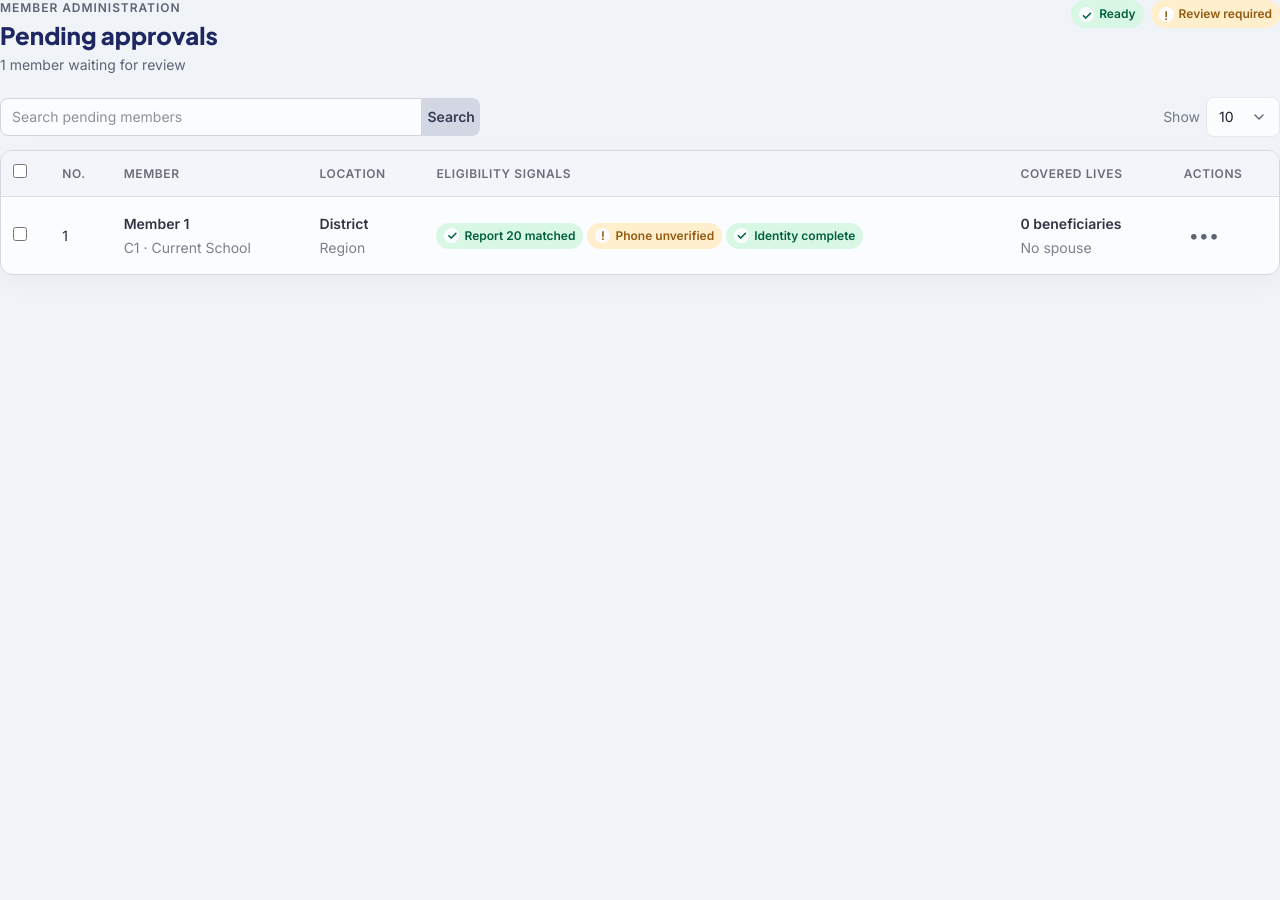
requires a correction note for member returns and preserves it after failure
Click the checkbox named "Select Member 1" at (20, 234), box left=13, top=227, right=27, bottom=241
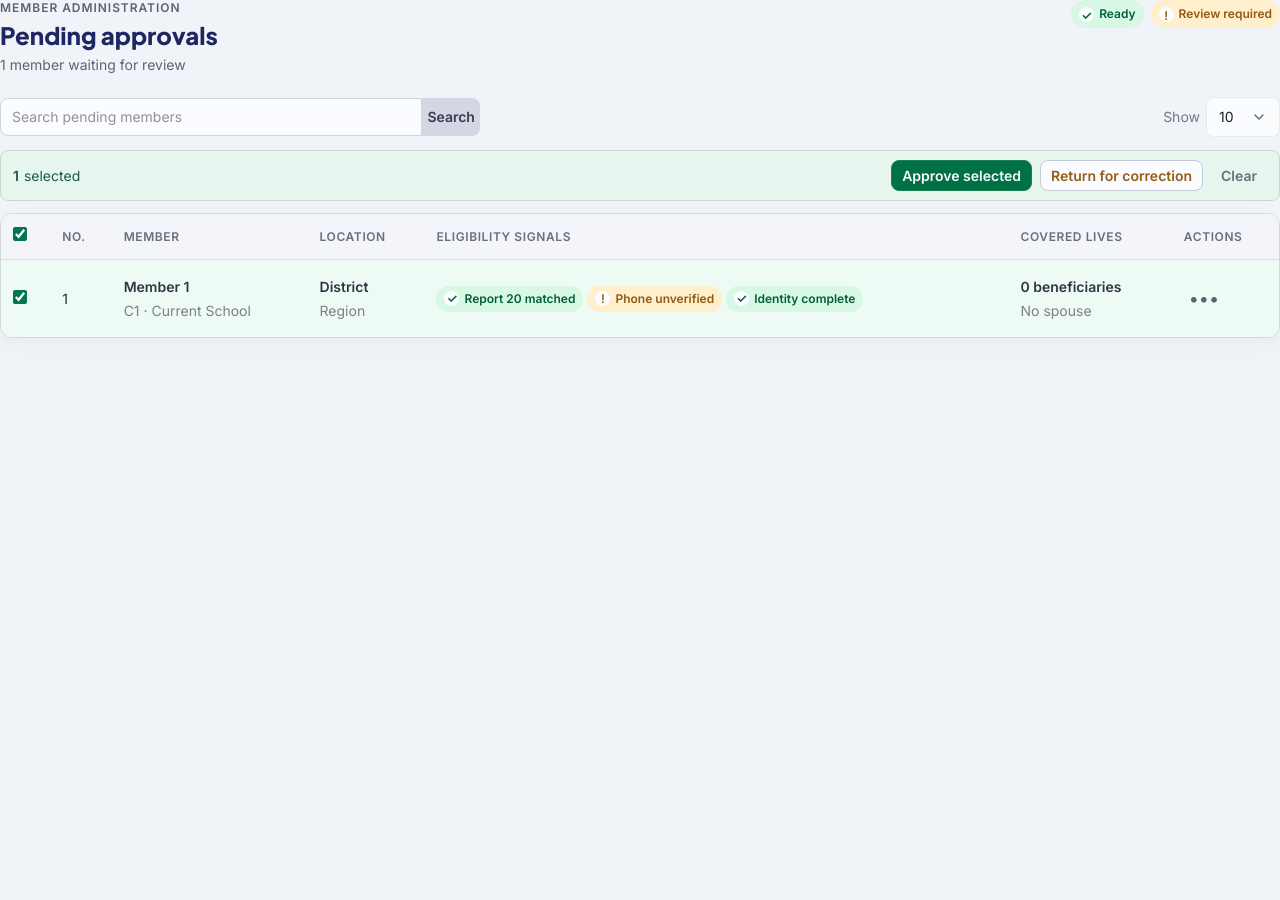
Click the button "Return for correction" at (1122, 175), box left=1040, top=160, right=1203, bottom=191
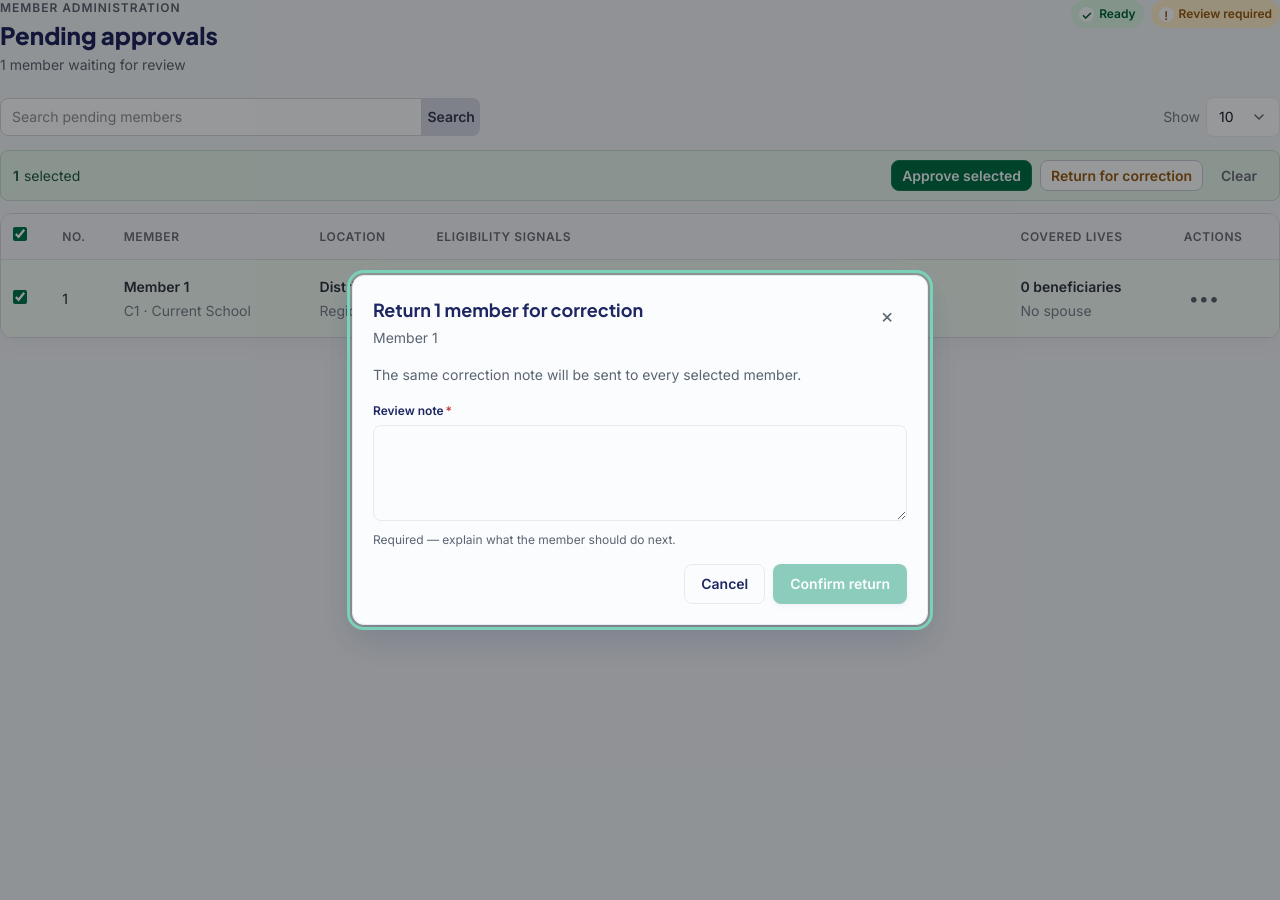
Now the button "Confirm return" is disabled, box left=773, top=564, right=907, bottom=604
Type "Missing document" into the text box labelled "Review note*" at (640, 473), box left=373, top=425, right=907, bottom=521
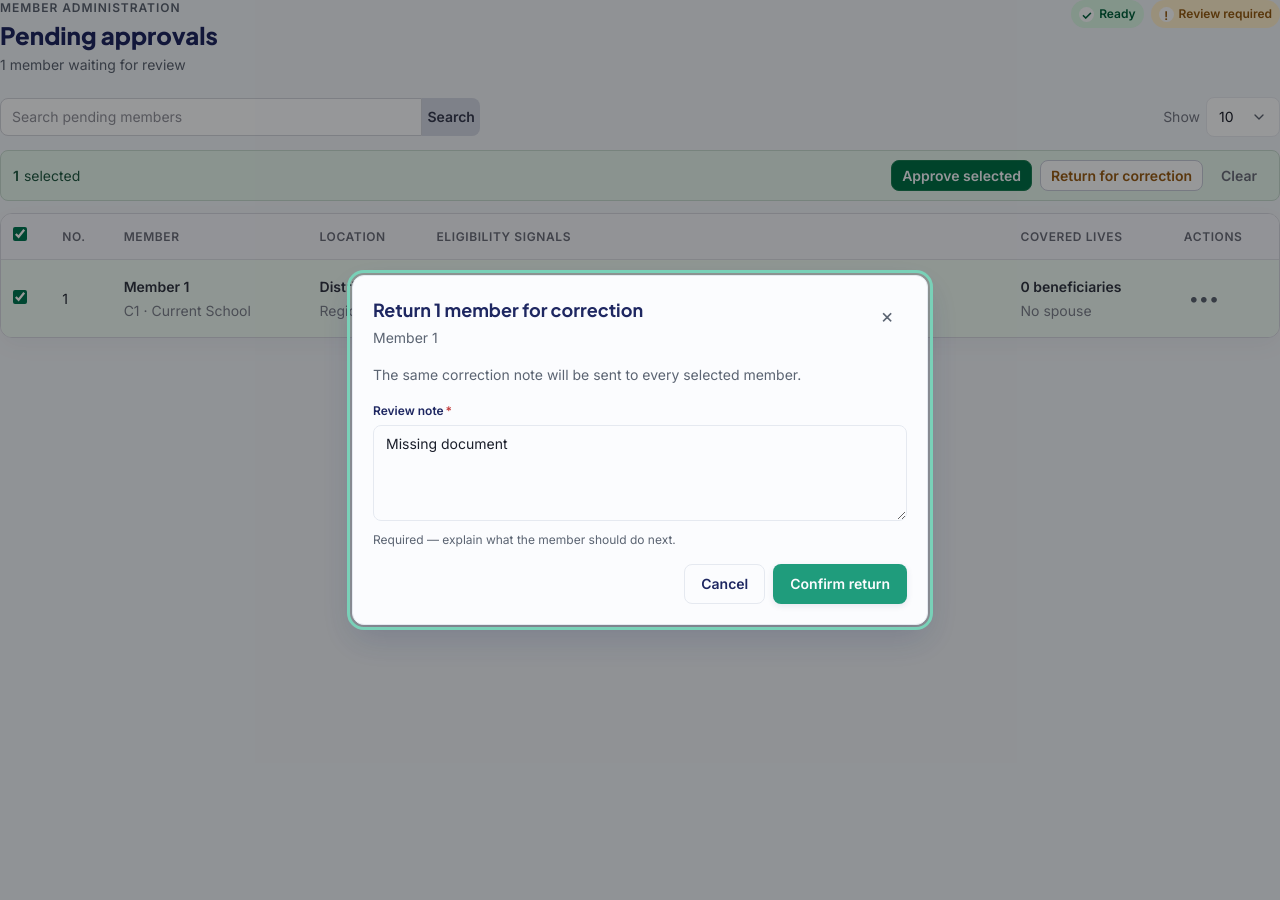
Click the button "Confirm return" at (840, 584), box left=773, top=564, right=907, bottom=604
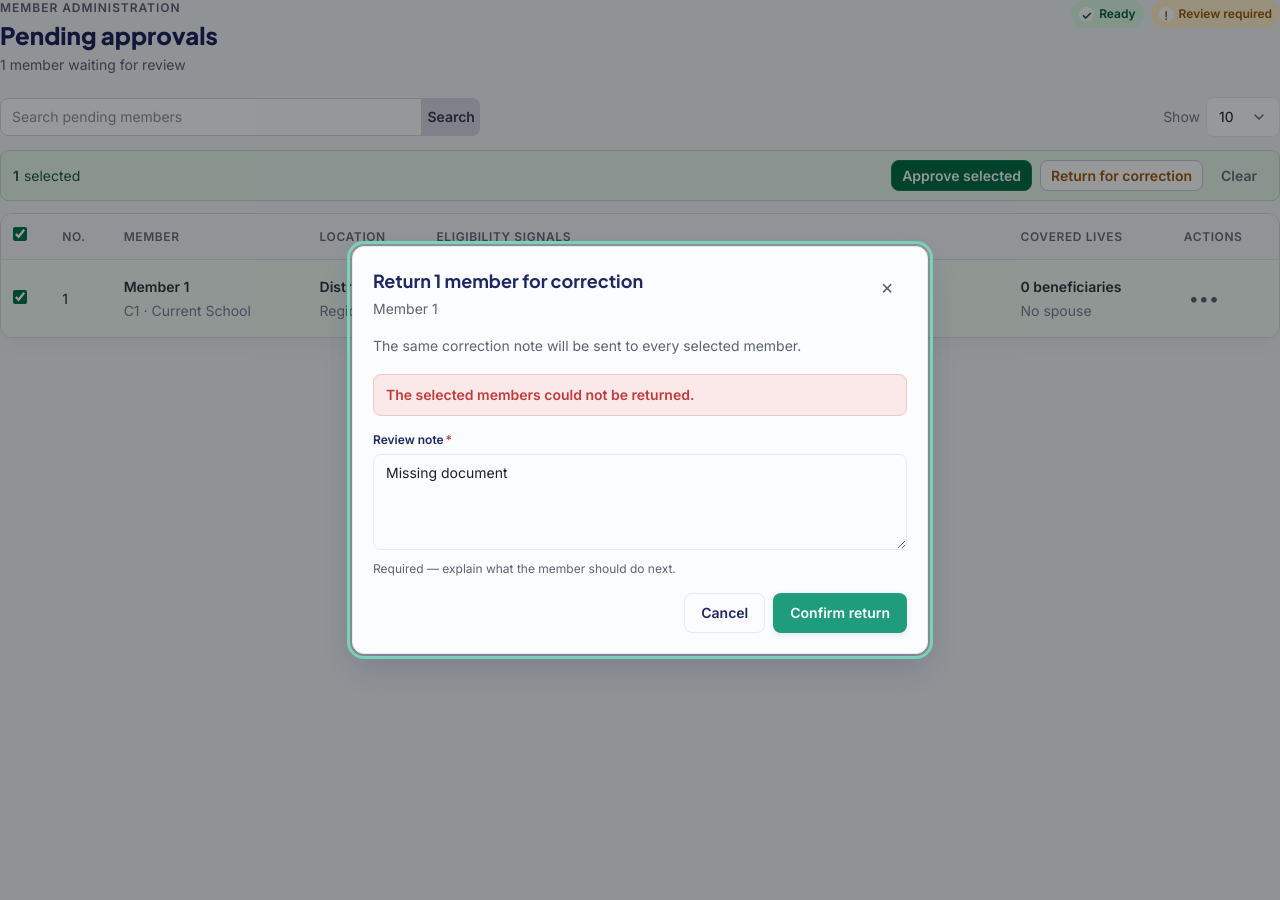
Now the message "The selected members could not be returned." is shown, box left=373, top=374, right=907, bottom=416
